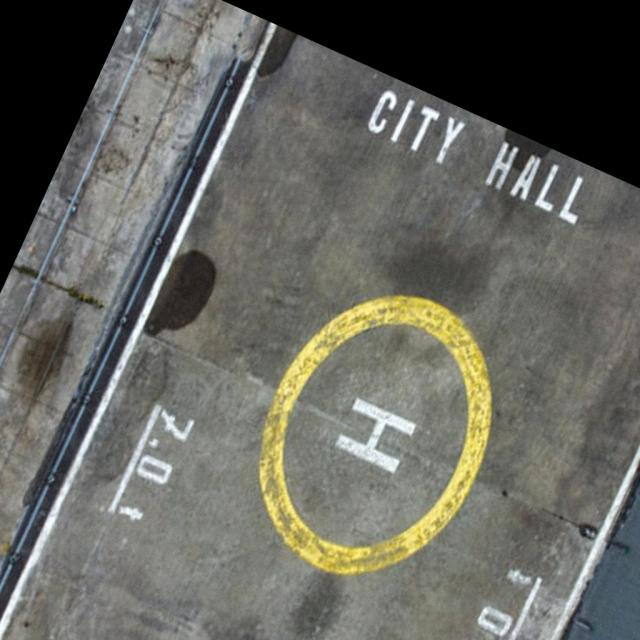helipad: (254, 290, 494, 581)
